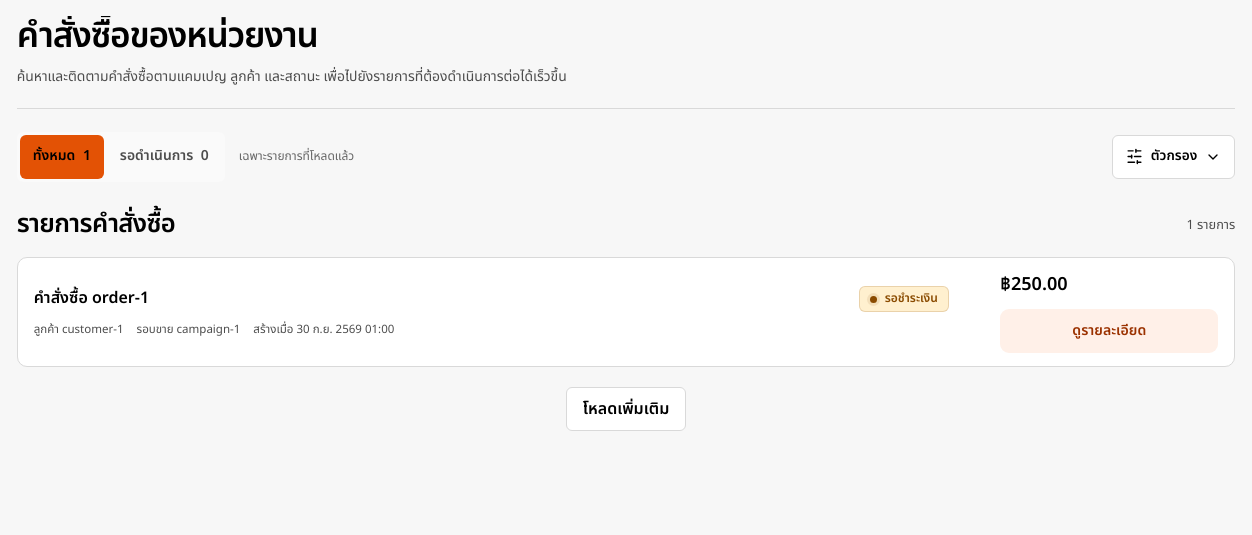
Test case: OrganizationOrdersView › uses the opaque next cursor with the applied filters
This screenshot has width=1252, height=535.
Check: the heading "คำสั่งซื้อ order-1" is shown, box [34,286,149,310]
Click the button "โหลดเพิ่มเติม".
click(626, 409)  # box [566,387,686,431]
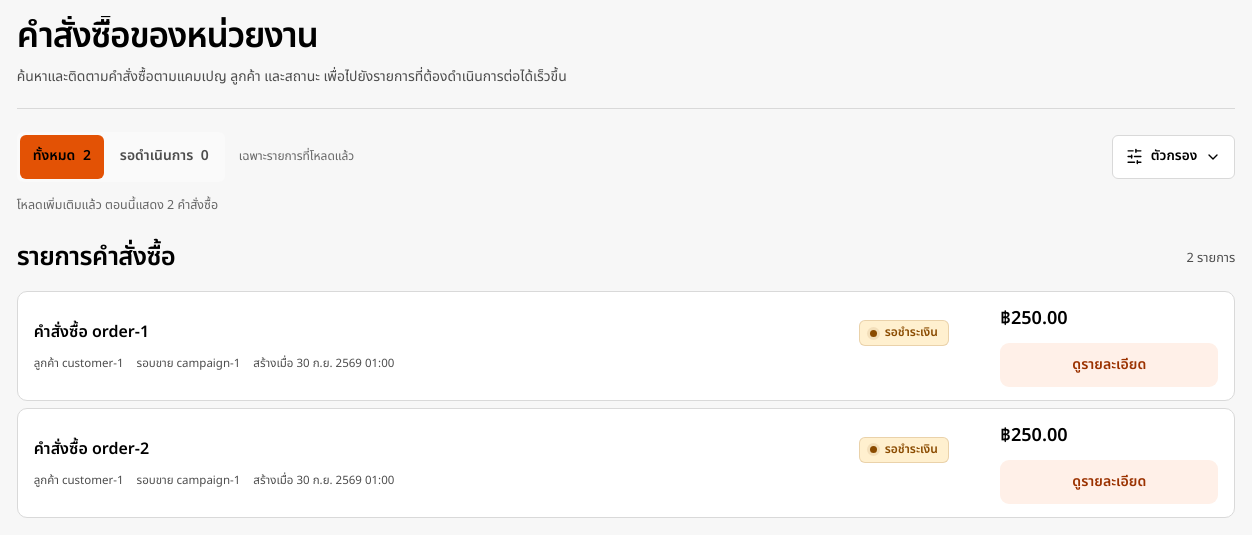
Check: the heading "คำสั่งซื้อ order-2" is shown, box [34,437,149,461]
Check: the message reads "โหลดเพิ่มเติมแล้ว ตอนนี้แสดง 2 คำสั่งซื้อ", box [17,196,218,214]
